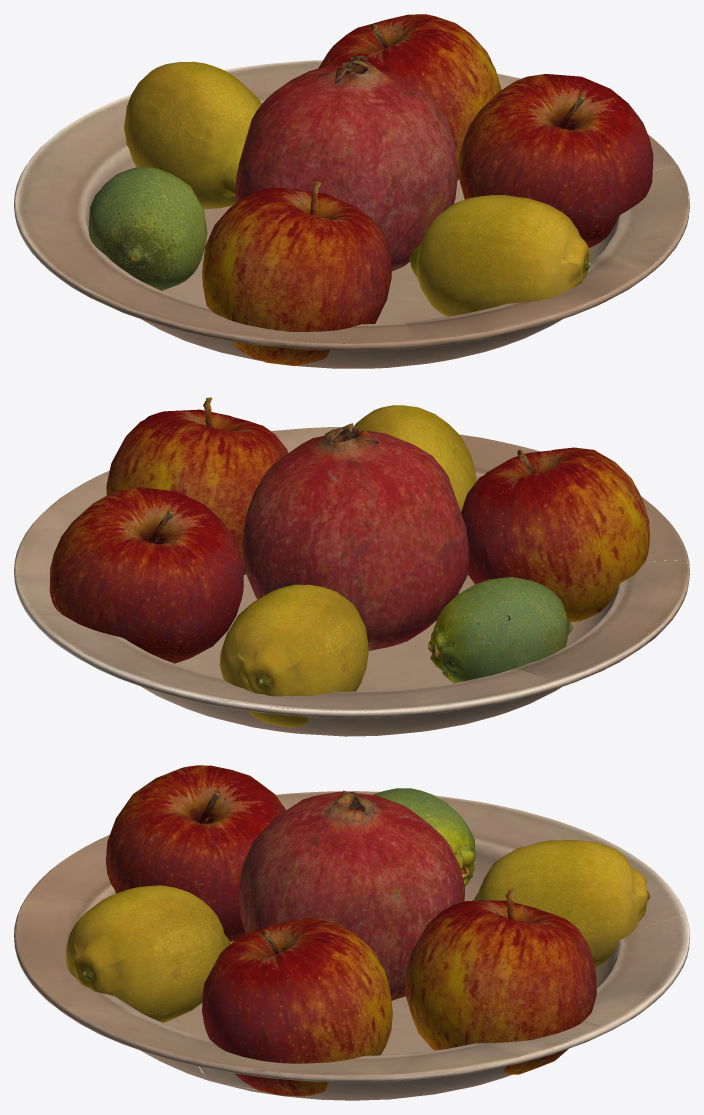
3 views of the same model, one above another, from view 1: azimuth 30°, elevation 25°; view 2: azimuth 150°, elevation 25°; view 3: azimuth 270°, elevation 25° (orthographic).
Visible parts, largest first — view 1: stockholm-bowl-34.001, pomegranate.001, apple.002, apple.001, lemon.001, lemon.002, lime.001, apple.003; view 2: stockholm-bowl-34.001, pomegranate.001, apple.003, apple.002, lemon.002, apple.001, lime.001, lemon.001; view 3: stockholm-bowl-34.001, pomegranate.001, apple.001, apple.003, apple.002, lemon.001, lemon.002, lime.001.
Part boxes in pixels (left/top/right/bottom): stockholm-bowl-34.001: left=14, top=60, right=689, bottom=368; pomegranate.001: left=235, top=55, right=457, bottom=271; apple.002: left=202, top=181, right=391, bottom=365; apple.001: left=459, top=74, right=653, bottom=247; lemon.001: left=409, top=195, right=590, bottom=316; lemon.002: left=124, top=61, right=261, bottom=209; lime.001: left=88, top=167, right=207, bottom=290; apple.003: left=318, top=14, right=501, bottom=180; stockholm-bowl-34.001: left=14, top=427, right=689, bottom=736; pomegranate.001: left=242, top=423, right=469, bottom=650; apple.003: left=49, top=487, right=243, bottom=663; apple.002: left=461, top=447, right=649, bottom=622; lemon.002: left=219, top=584, right=368, bottom=727; apple.001: left=106, top=397, right=288, bottom=574; lime.001: left=428, top=577, right=572, bottom=683; lemon.001: left=354, top=405, right=476, bottom=511; stockholm-bowl-34.001: left=14, top=791, right=689, bottom=1100; pomegranate.001: left=239, top=790, right=464, bottom=1000; apple.001: left=202, top=918, right=392, bottom=1096; apple.003: left=405, top=888, right=596, bottom=1074; apple.002: left=106, top=765, right=285, bottom=941; lemon.001: left=66, top=885, right=230, bottom=1022; lemon.002: left=472, top=840, right=650, bottom=967; lime.001: left=373, top=788, right=475, bottom=885.
Size of the model in its own units: 0.34 by 0.1232 by 0.34.
Materials: 5 (5 with a texture image).
